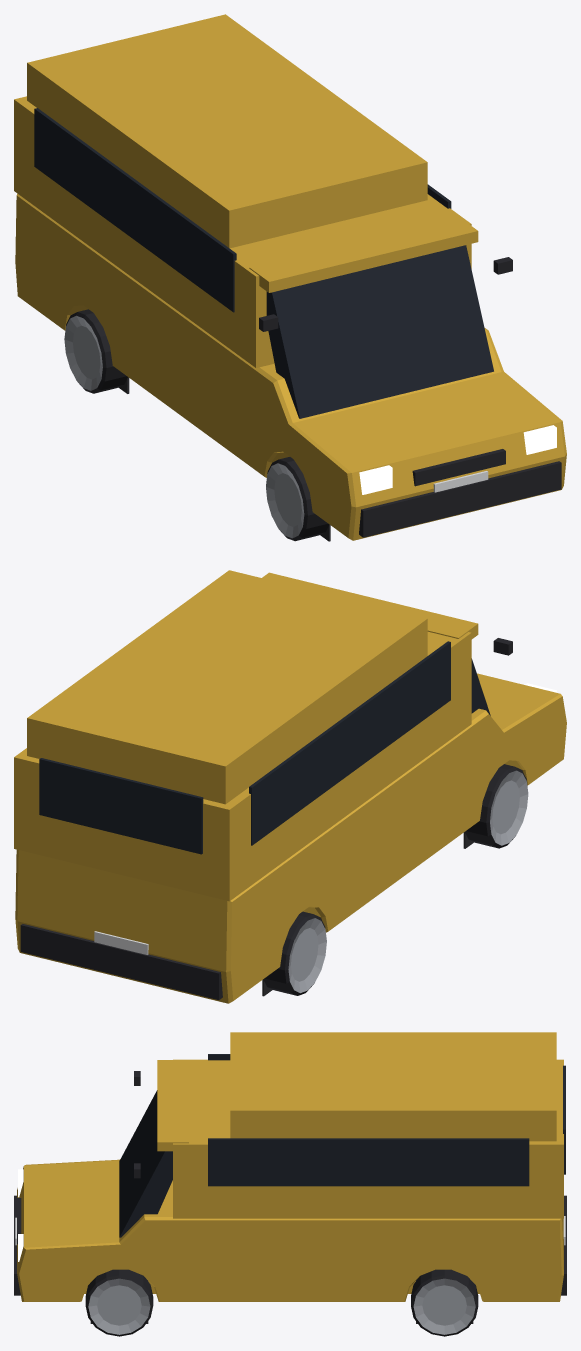
The model's file is kargo_m.glb.
3 renders of one model, top to bottom at view 1: azimuth 30°, elevation 25°; view 2: azimuth 150°, elevation 25°; view 3: azimuth 270°, elevation 25°, orthographic. The views are drawn at different scales.
Parts seen in each view (by area): view 1: kargo_m, wheel_RR, wheel_FR; view 2: kargo_m, wheel_FR, wheel_RR; view 3: kargo_m, wheel_FL, wheel_RL.
Part boxes in pixels (box(x1,y1,x2,y2)): kargo_m: box(14, 14, 566, 541); wheel_RR: box(64, 309, 127, 393); wheel_FR: box(266, 457, 329, 541); kargo_m: box(14, 570, 566, 1003); wheel_FR: box(465, 764, 528, 848); wheel_RR: box(263, 911, 326, 995); kargo_m: box(14, 1032, 566, 1323); wheel_FL: box(85, 1269, 153, 1336); wheel_RL: box(411, 1269, 478, 1336).
Size of the model in its own units: 2.34 by 2.46 by 5.56.
